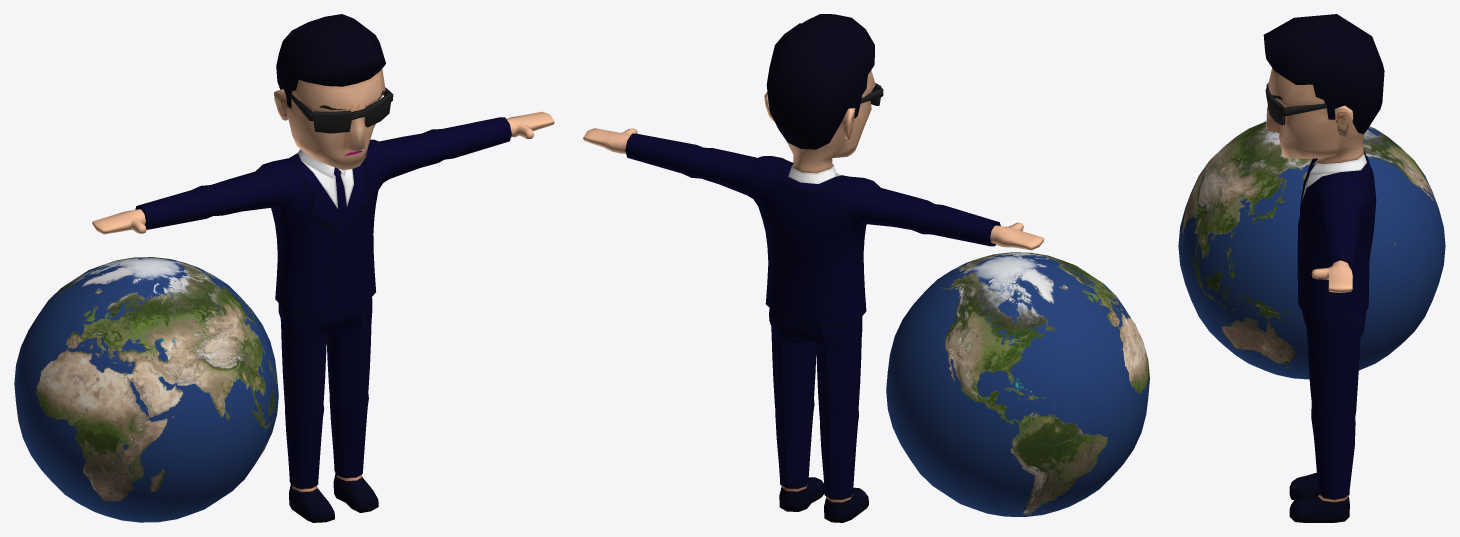
File: threeTestModel.obj
3 views of the same model, side by side, from view 1: azimuth 30°, elevation 25°; view 2: azimuth 150°, elevation 25°; view 3: azimuth 270°, elevation 25° (orthographic).
Visible parts, largest first — view 1: py, pSphere1; view 2: py, pSphere1; view 3: pSphere1, py.
Boxes of the visible parts, x1,y1,x2,y2 form: py: [92, 14, 554, 522]; pSphere1: [14, 257, 278, 522]; py: [583, 14, 1044, 522]; pSphere1: [886, 252, 1149, 516]; pSphere1: [1178, 121, 1445, 379]; py: [1263, 14, 1384, 522].
Bounding box in the file's own units: 27.78 × 24.04 × 12.
Materials: 2 (2 with a texture image).
